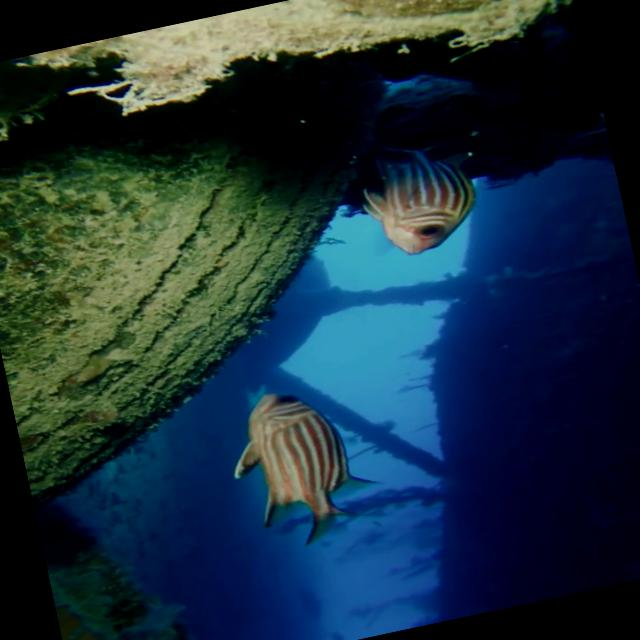Asker Baligi: (215, 372, 393, 558), (344, 128, 488, 265)
